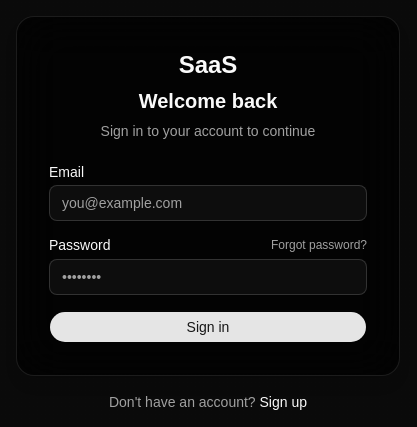
Login › disables button while loading
Type "test@example.com" into the field labelled "Email" at (208, 203), box [49, 185, 367, 221]
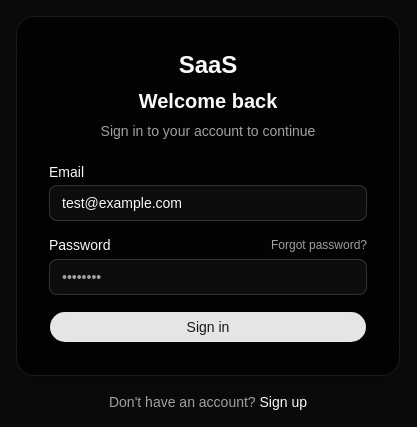
Type "Password1!" into the password field labelled "Password" at (208, 277), box [49, 259, 367, 295]
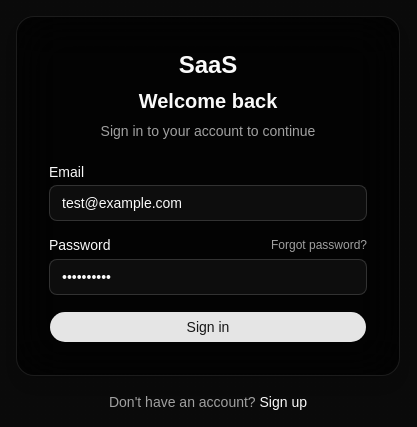
Click the button "Sign in" at (208, 327), box [49, 311, 367, 343]
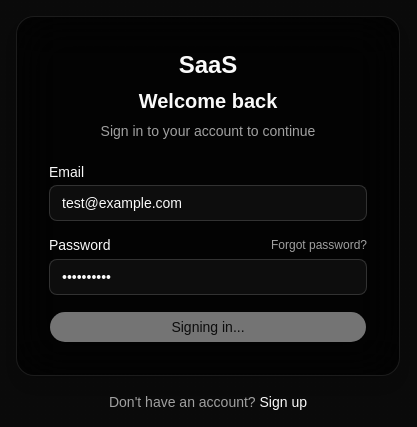
Now the button "Signing in..." is disabled, box [49, 311, 367, 343]
